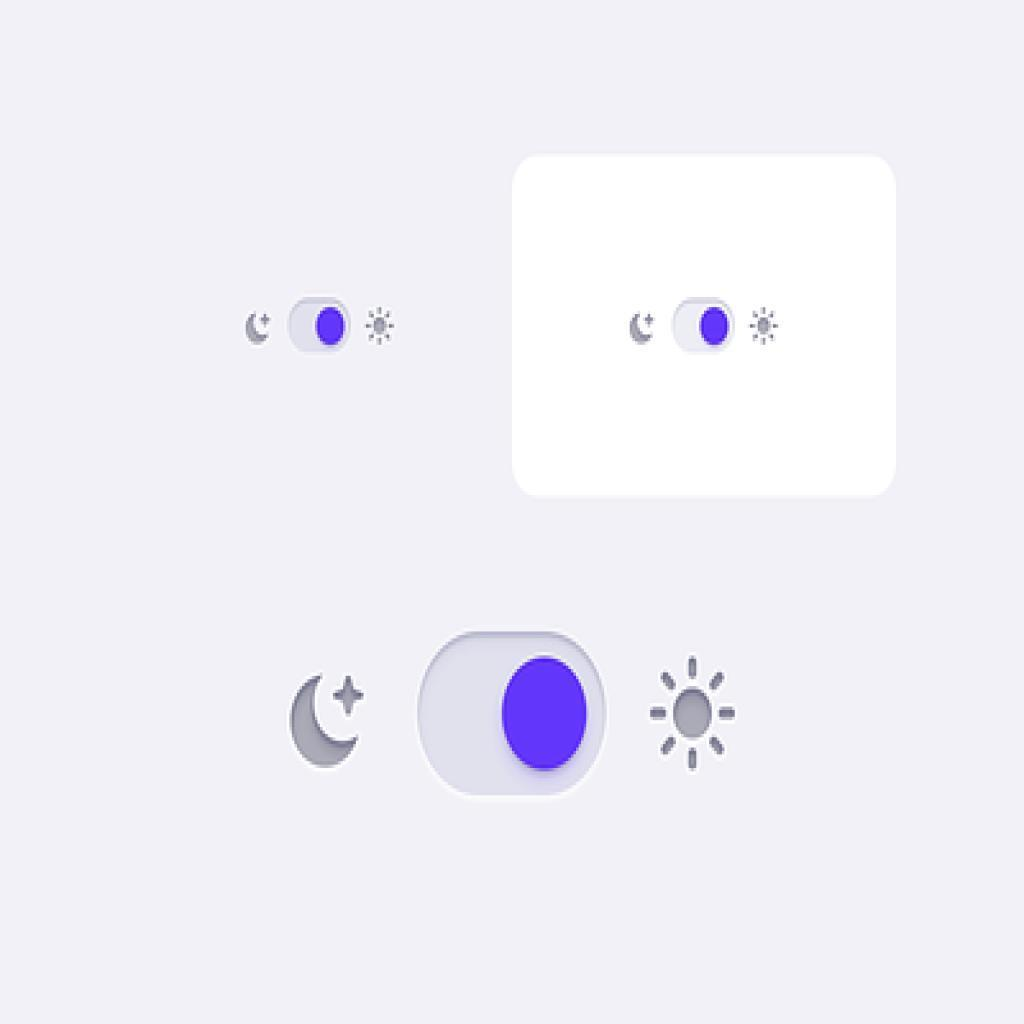switch: (416, 634, 611, 797), (287, 297, 353, 357), (671, 301, 738, 355)
